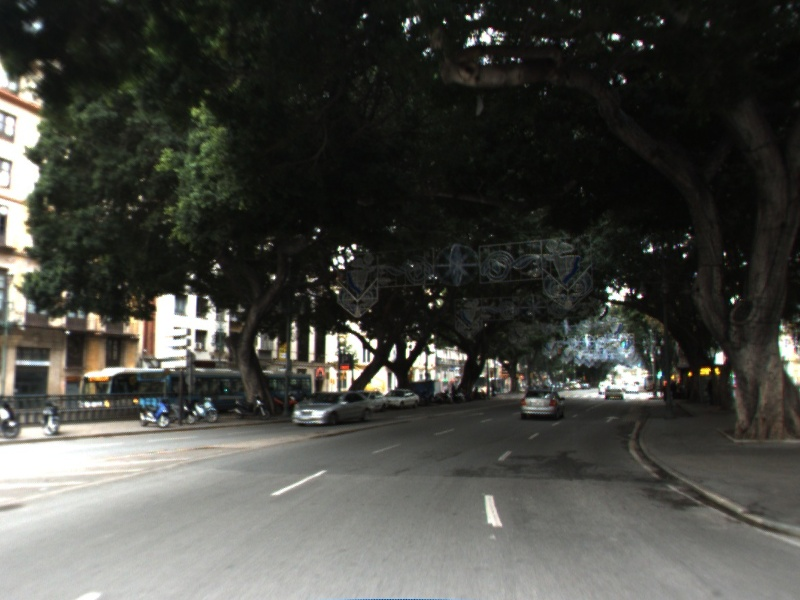STRAIGHT: (602, 414, 622, 425)
